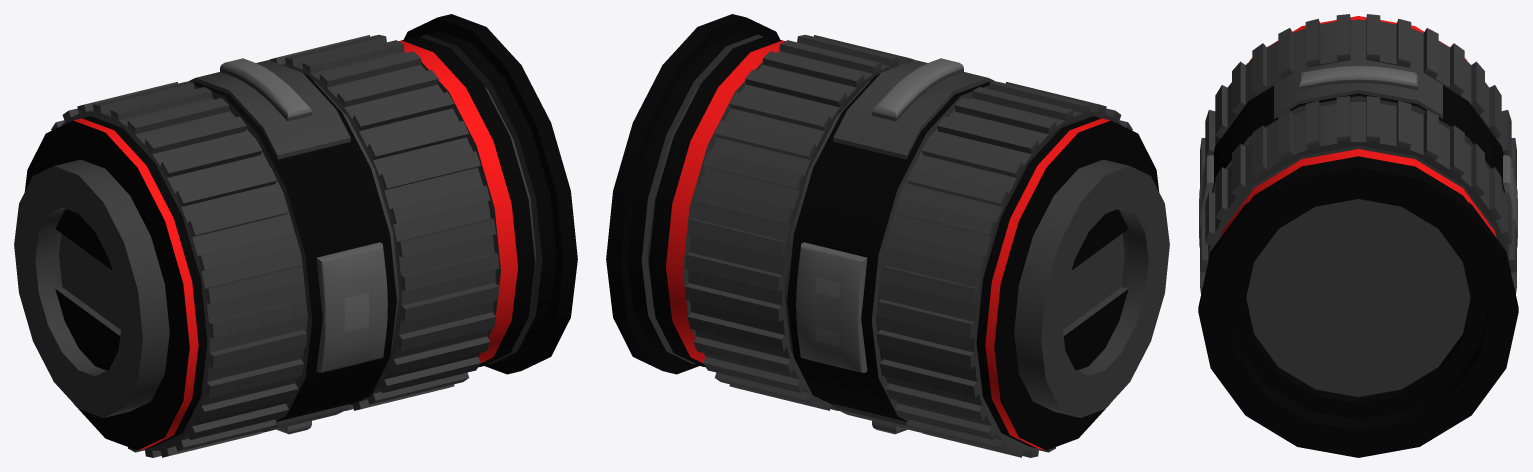
Rendered from CameraLens_01.glb.
The picture shows the model from 3 angles, left to right: view 1: azimuth 30°, elevation 25°; view 2: azimuth 150°, elevation 25°; view 3: azimuth 270°, elevation 25°; orthographic projection. The views are drawn at different scales.
Parts seen in each view (by area): view 1: Mesh_CameraLens_01; view 2: Mesh_CameraLens_01; view 3: Mesh_CameraLens_01.
Part boxes in pixels (<box>): Mesh_CameraLens_01: <box>14,14,577,457</box>; Mesh_CameraLens_01: <box>606,14,1169,457</box>; Mesh_CameraLens_01: <box>1198,14,1518,457</box>.
Size of the model in its own units: 0.1116 by 0.0892 by 0.0865.
1 material, 1 textured.
